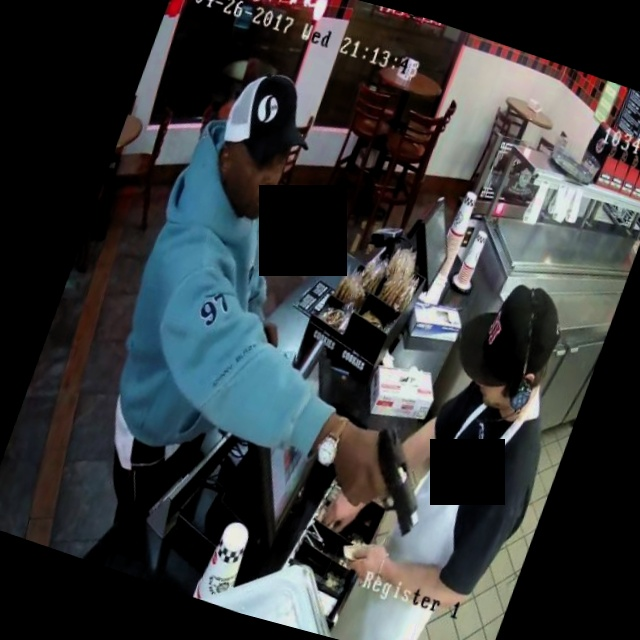gun: (321, 395, 468, 558)
